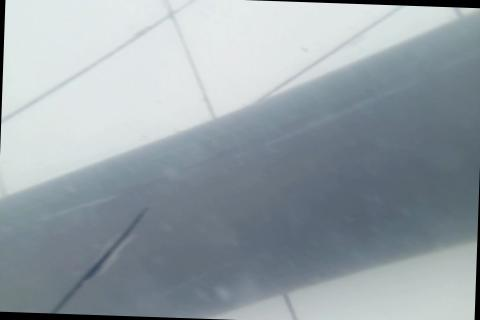keretakan: (48, 201, 151, 316)
